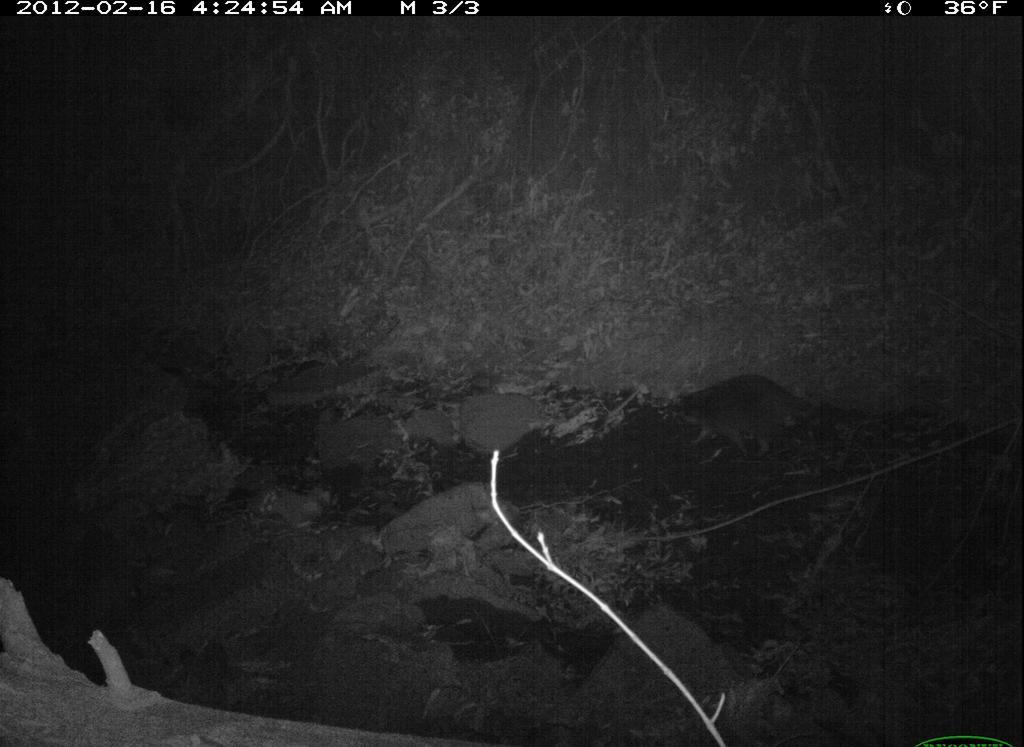raccoon: (665, 369, 833, 461)
